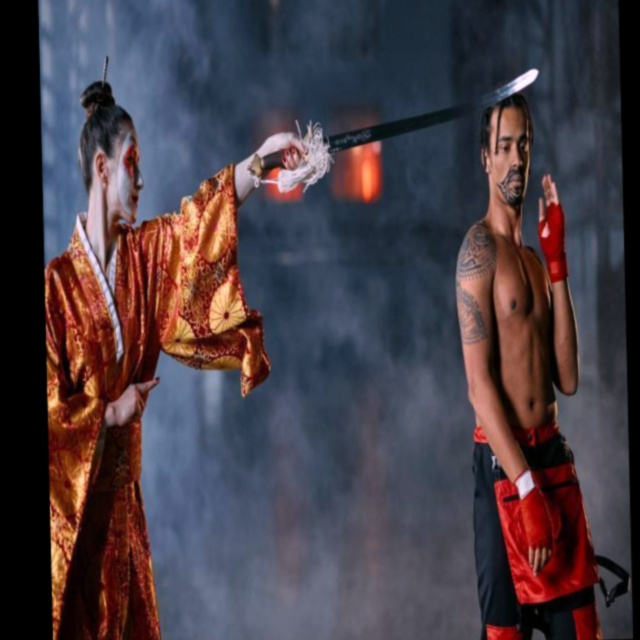Sharp-Object: (240, 51, 546, 188)
